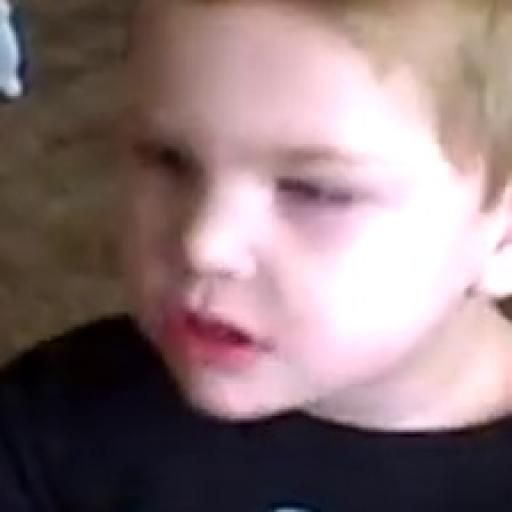Autism: (128, 6, 509, 426)
